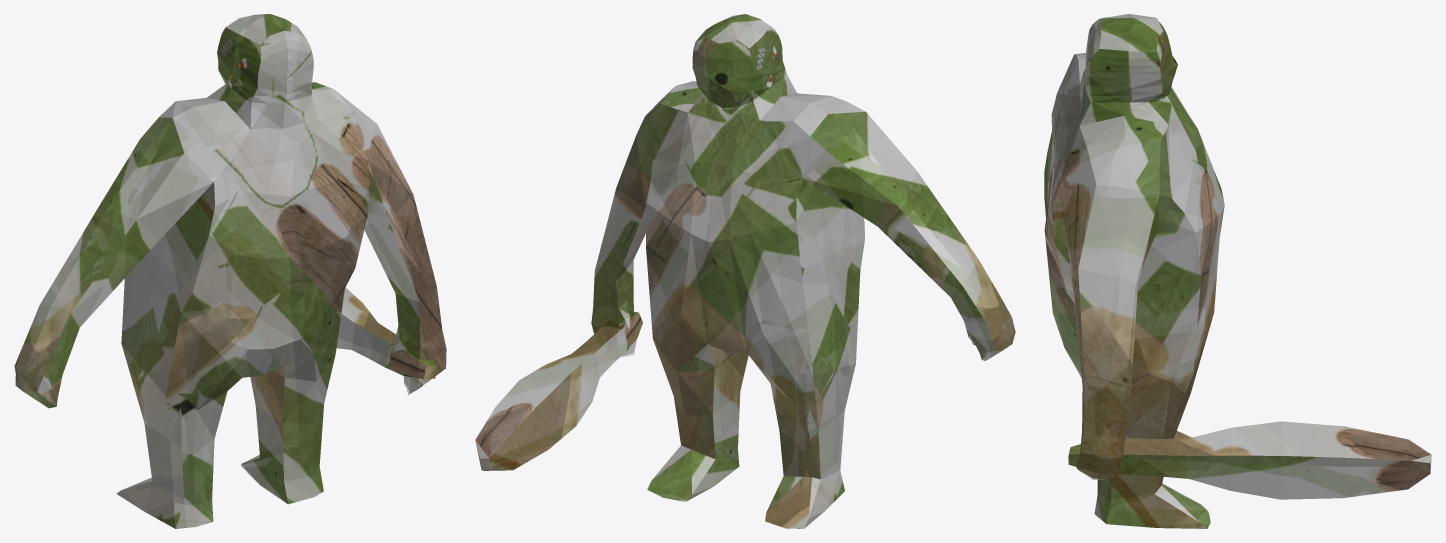
The model's file is Enemigo27.obj.
The picture shows the model from 3 angles, left to right: view 1: azimuth 30°, elevation 25°; view 2: azimuth 150°, elevation 25°; view 3: azimuth 270°, elevation 25°; orthographic projection. The views are drawn at different scales.
Visible parts, largest first — view 1: Cube; view 2: Cube; view 3: Cube.
Part boxes in pixels (<box>): Cube: <box>14,14,446,528</box>; Cube: <box>475,14,1015,528</box>; Cube: <box>1044,14,1431,528</box>.
Size of the model in its own units: 2.5 by 2.7 by 1.93.
Materials: 1 (1 with a texture image).
